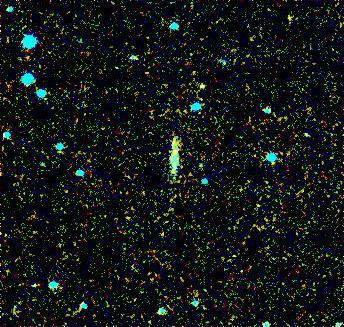star: (270, 7, 300, 37)
